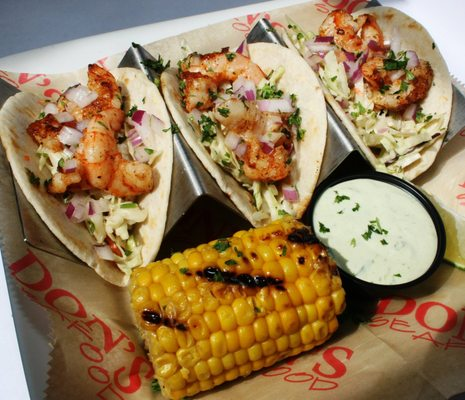sushi: (308, 155, 452, 294)
